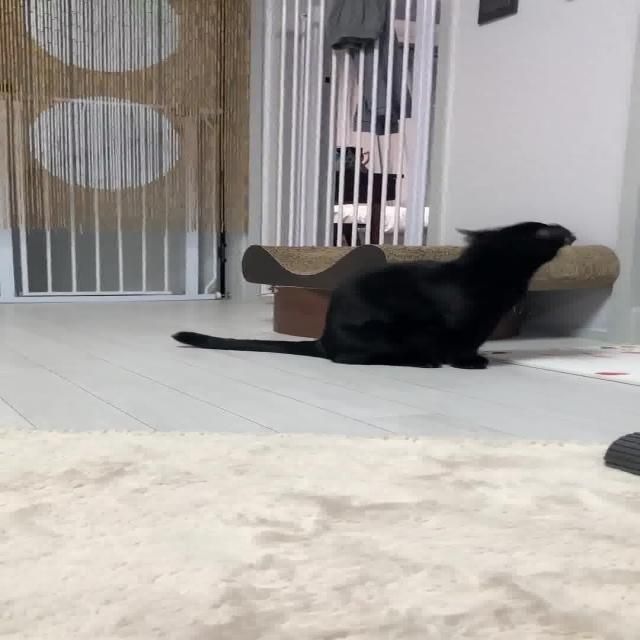cat: (154, 212, 586, 380)
